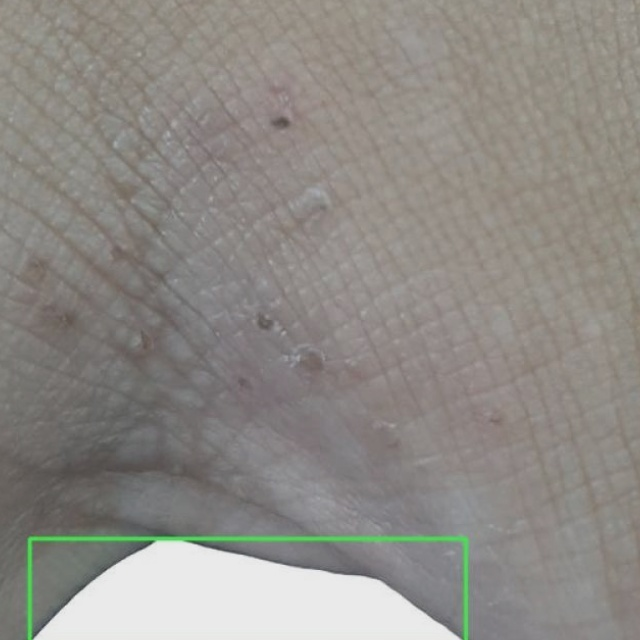Scabies: (29, 538, 465, 639)
